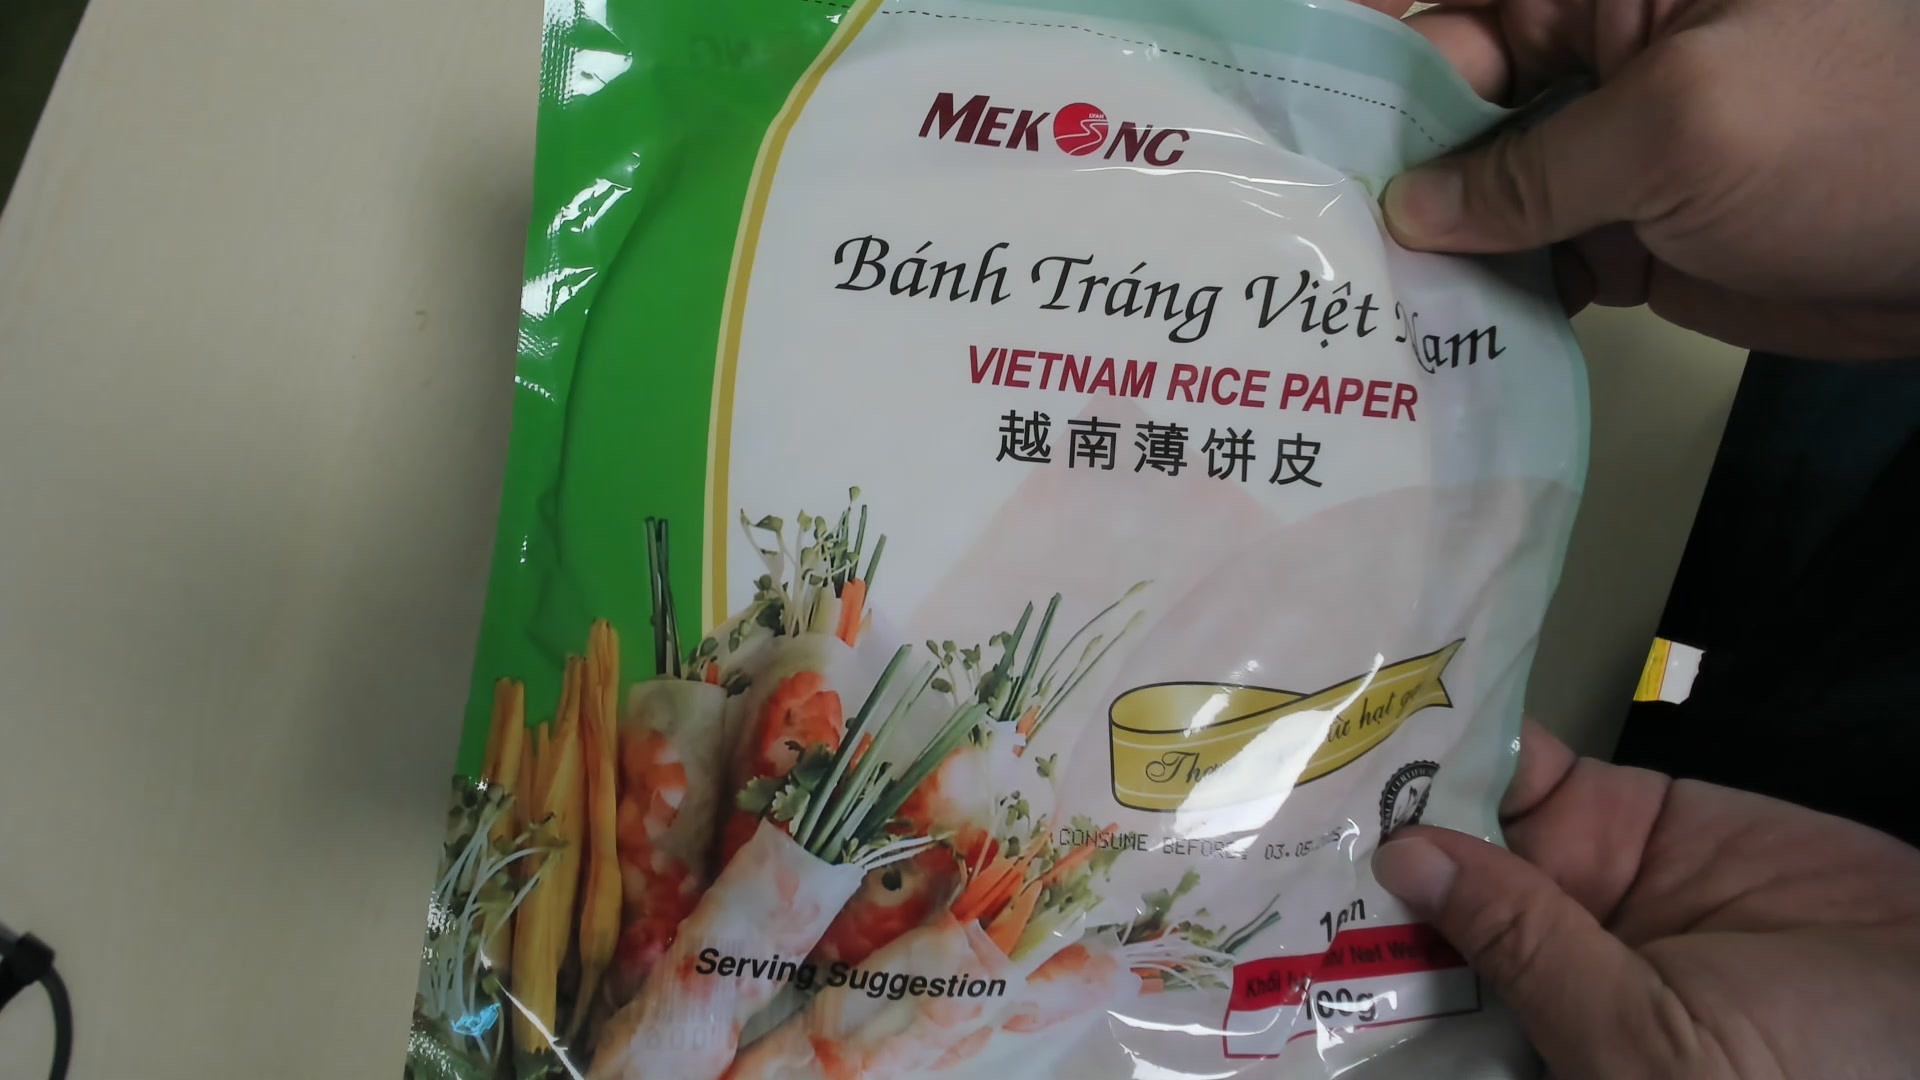InstantMeals_300_399g_NonHalal_NonHealthy: (415, 1, 1581, 1080)
